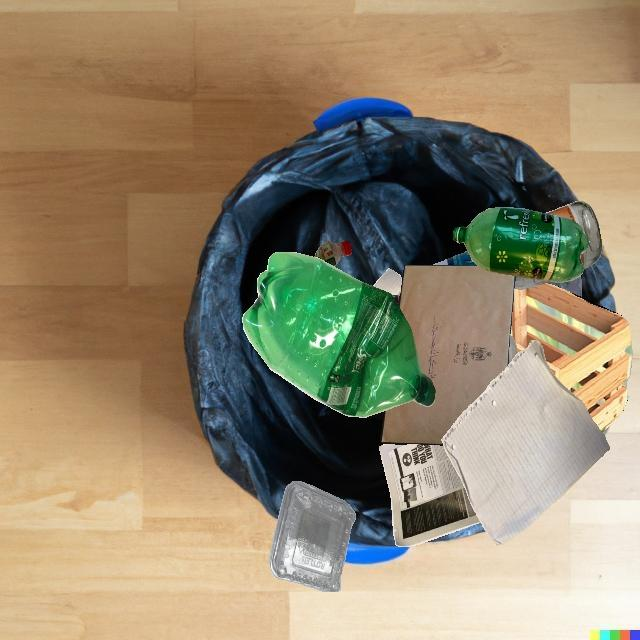combustible waste: (510, 283, 633, 433)
glass: (545, 201, 602, 269), (508, 335, 517, 366), (392, 295, 400, 307)
paper: (441, 340, 610, 545), (381, 265, 515, 445), (379, 443, 481, 547), (373, 268, 403, 295)
plastic: (242, 252, 435, 417), (453, 207, 589, 283), (269, 481, 356, 591), (401, 266, 545, 291), (314, 241, 352, 266), (545, 275, 582, 297), (431, 251, 478, 266)
